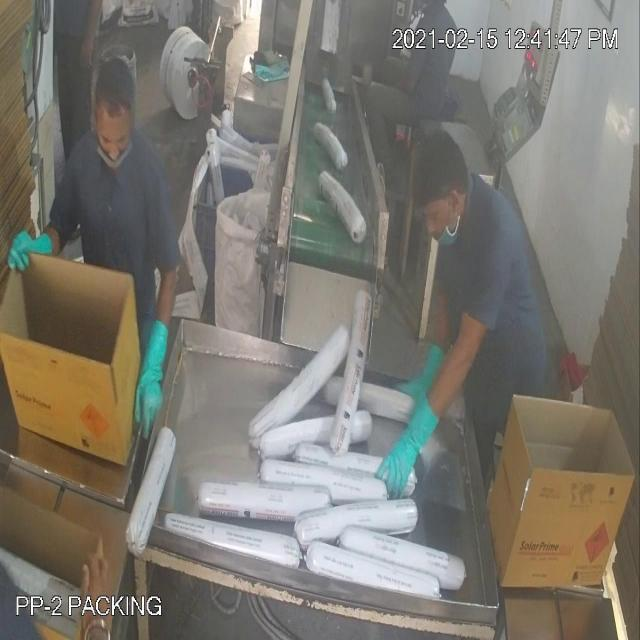Gloves: (24, 36, 407, 590)
